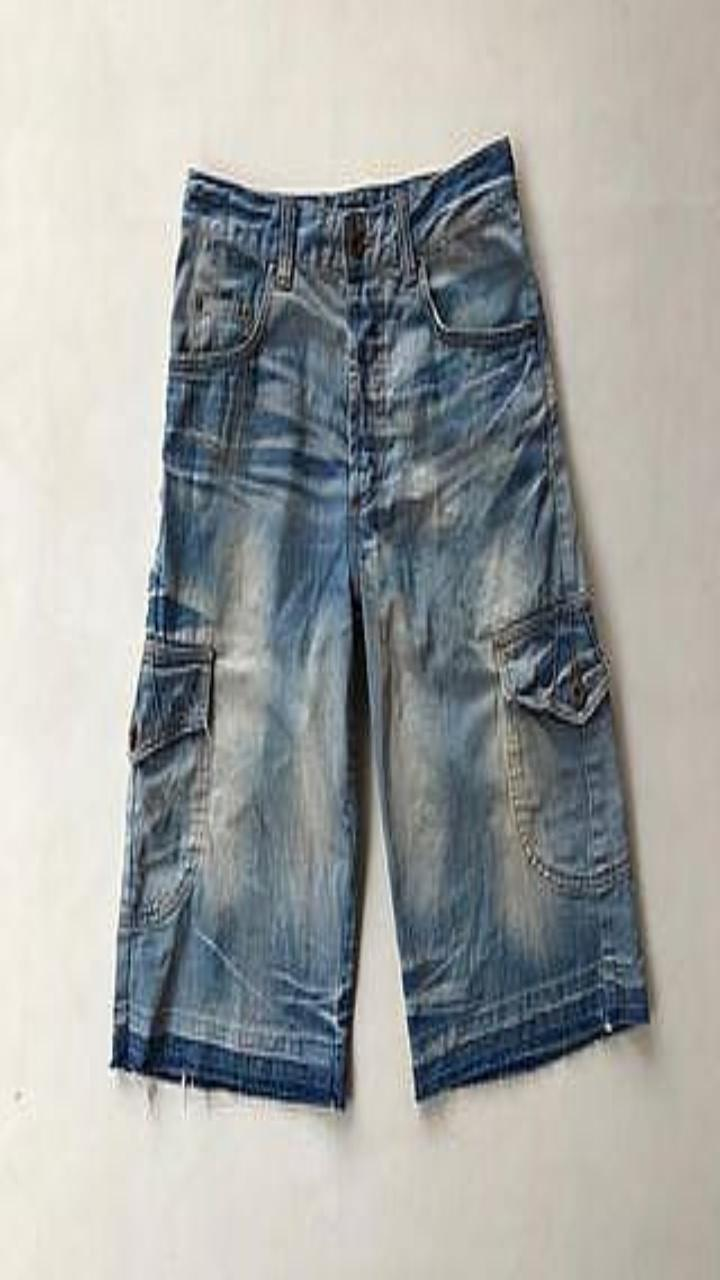Shorts: (110, 136, 648, 1107)
